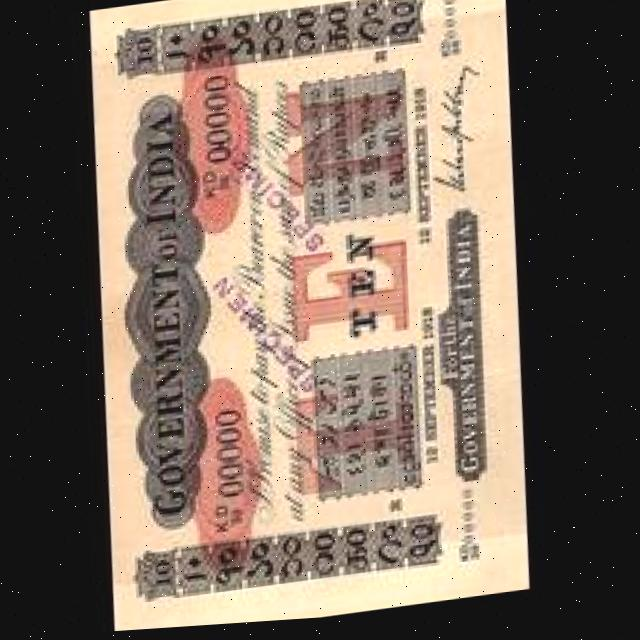banknote: (72, 0, 547, 635)
